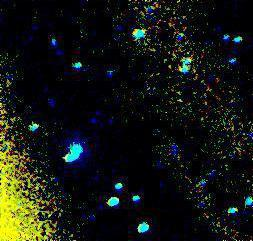star: (88, 104, 118, 134)
